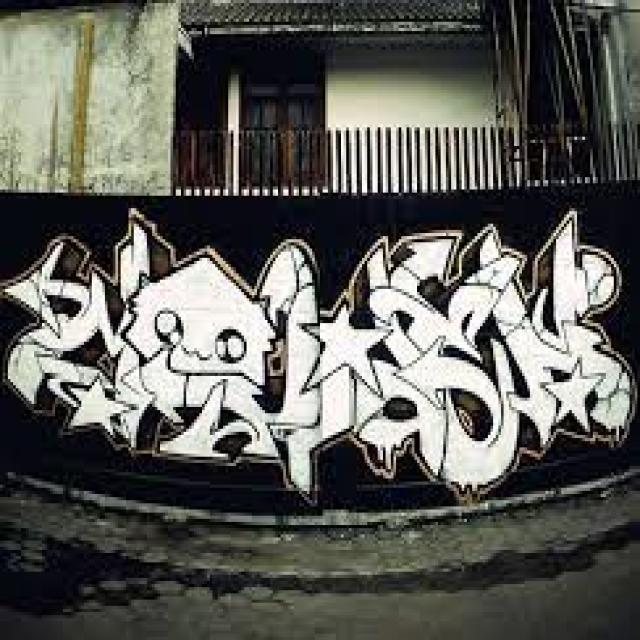-: (2, 209, 640, 504)
